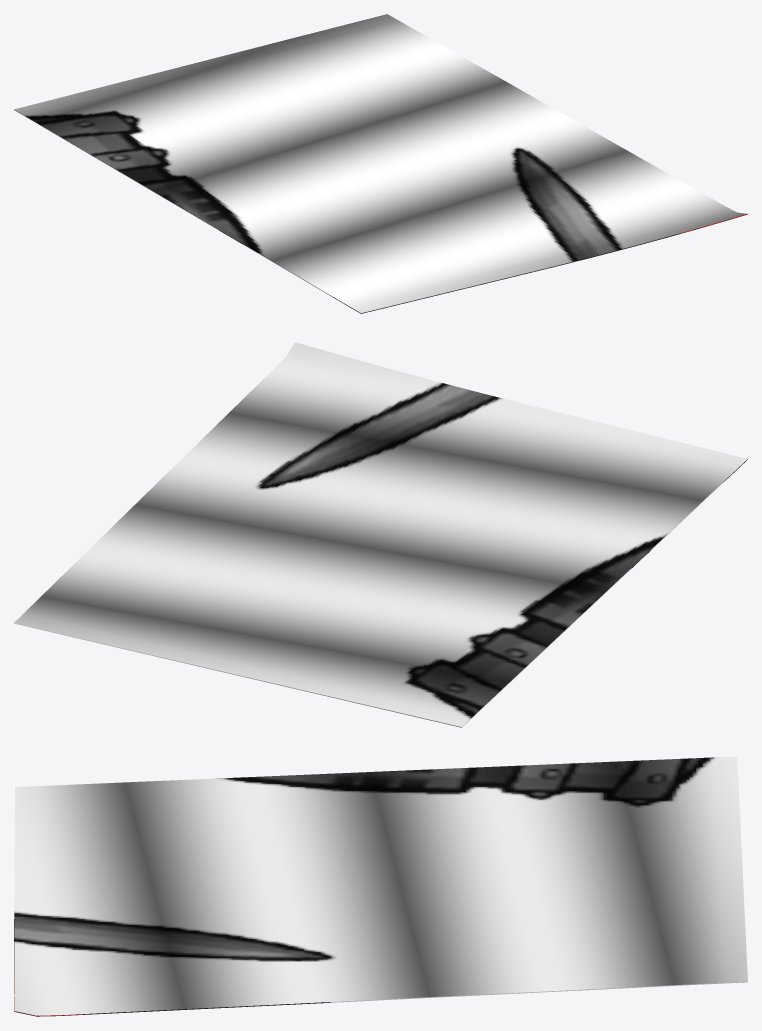
Rendered from Level 113 Unroll paper on easel.fbx.
The picture shows the model from 3 angles, top to bottom: view 1: azimuth 30°, elevation 25°; view 2: azimuth 150°, elevation 25°; view 3: azimuth 270°, elevation 25°; orthographic projection. The views are drawn at different scales.
Visible parts, largest first — view 1: Blend; view 2: Blend; view 3: Blend.
Boxes of the visible parts, left/top/right/bottom form: Blend: left=14, top=14, right=747, bottom=313; Blend: left=14, top=342, right=747, bottom=727; Blend: left=14, top=756, right=747, bottom=1016.
Size of what is drawn, in the model's own units: 727 by 9.26 by 864.
